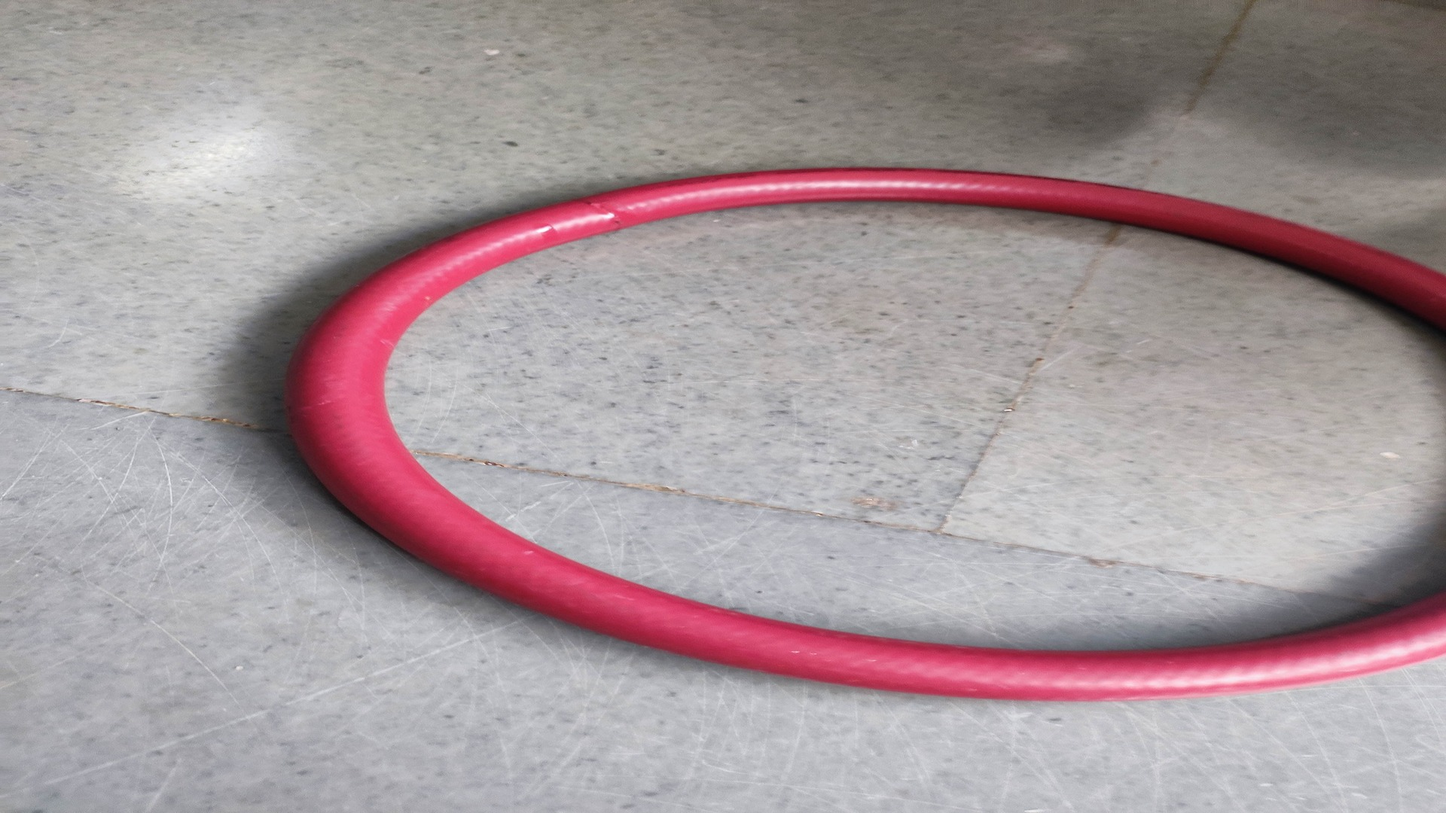Red ring: (288, 169, 1446, 698)
